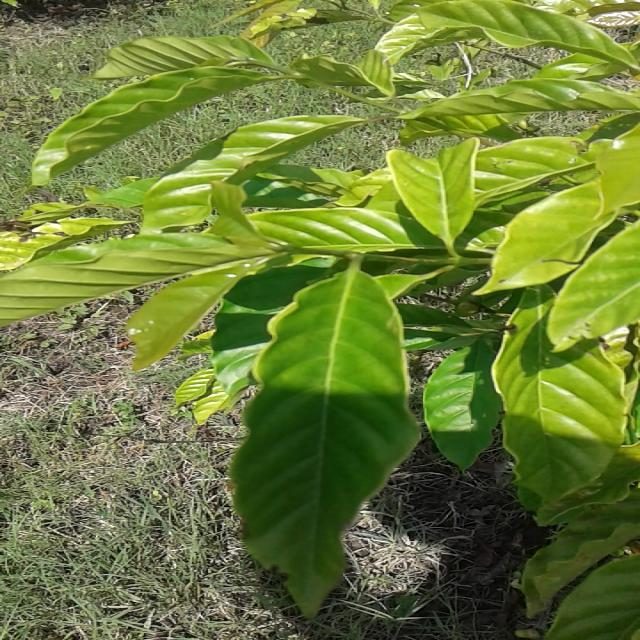Sanas: (217, 263, 418, 620)
